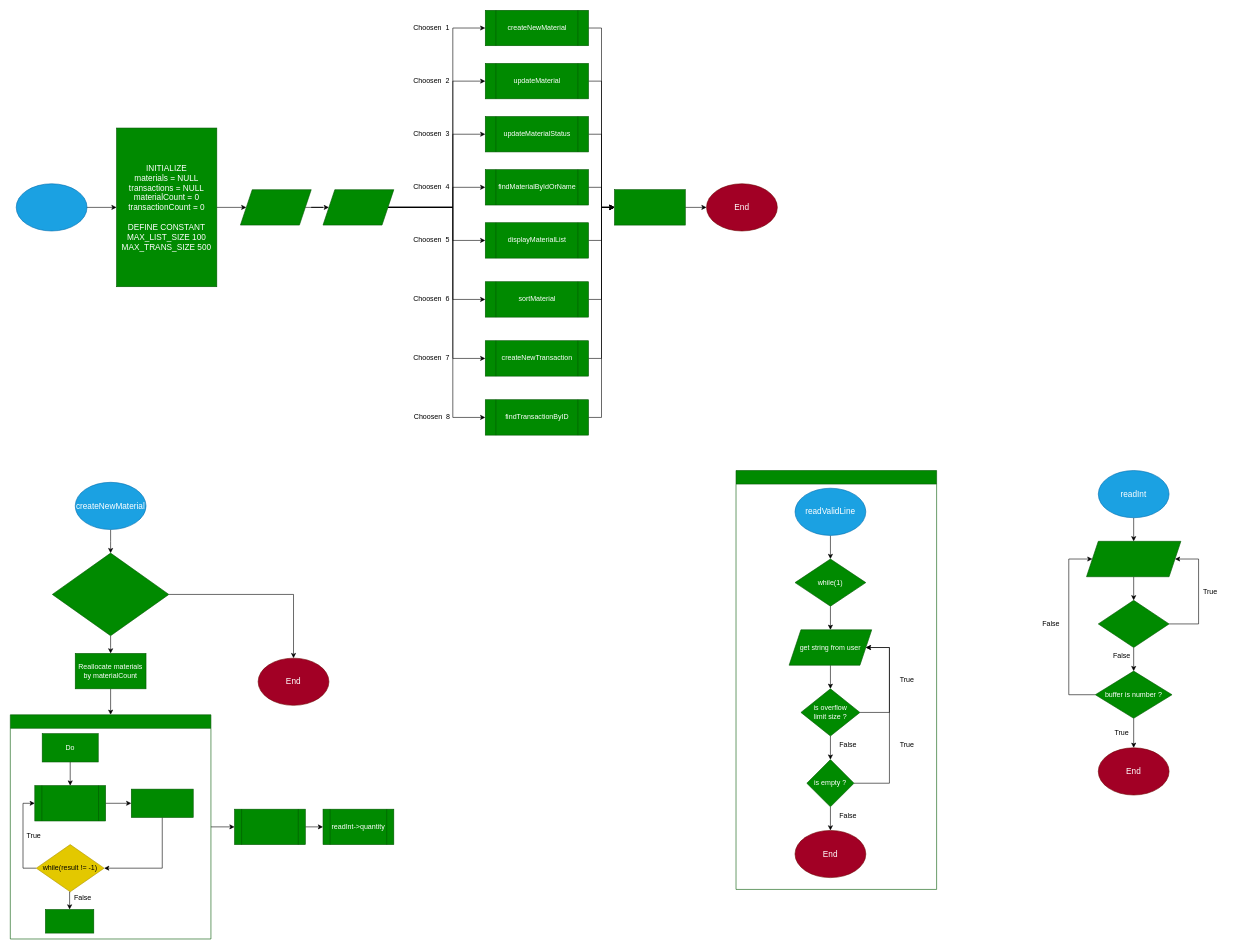
This 1238x949 diagram has some shape labels left out. Here are the shapes that lost their labels. From the top down, the box of each, then its label:
(16, 183, 87, 231): Start
(240, 189, 311, 225): Display menu
(322, 189, 394, 225): get choosen from user
(614, 189, 685, 225): free materials and transactions
(1086, 541, 1181, 577): get a string from user
(52, 553, 169, 636): materialCount >= MAX_LIST_SIZE
(1098, 600, 1169, 648): buffer is empty ?
(735, 470, 937, 889): read a string and valid
(34, 785, 106, 821): readLine->matID
(131, 789, 193, 817): result = findMaterialIndexById
(10, 714, 211, 939): get material ID until it not matched in list
(234, 809, 305, 845): readLine->name
(45, 909, 94, 933): break
